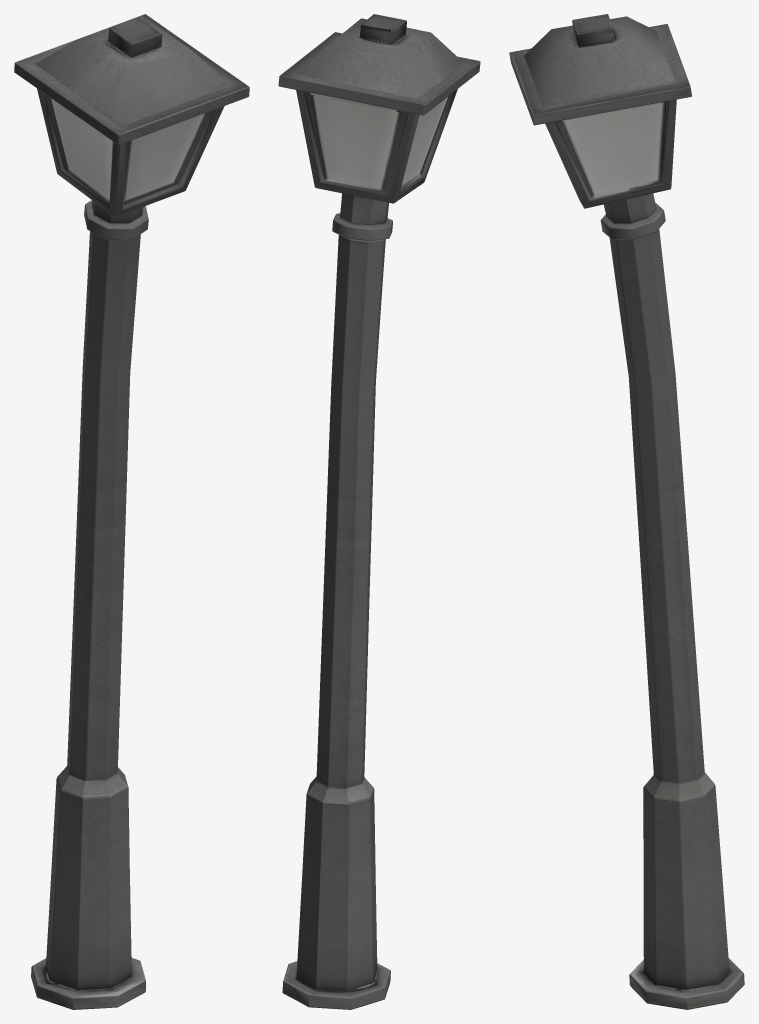
Rendered from street+lamp+3d+model.fbx.
The picture shows the model from 3 angles, left to right: view 1: azimuth 30°, elevation 25°; view 2: azimuth 150°, elevation 25°; view 3: azimuth 270°, elevation 25°; orthographic projection. The views are drawn at different scales.
Visible parts, largest first — view 1: bd8095d4_9fc1_47cc_8823_e5d06f0845d5; view 2: bd8095d4_9fc1_47cc_8823_e5d06f0845d5; view 3: bd8095d4_9fc1_47cc_8823_e5d06f0845d5.
Part boxes in pixels (x1,y1,x2,y2): bd8095d4_9fc1_47cc_8823_e5d06f0845d5: (14, 14, 249, 1009); bd8095d4_9fc1_47cc_8823_e5d06f0845d5: (278, 14, 480, 1009); bd8095d4_9fc1_47cc_8823_e5d06f0845d5: (509, 14, 744, 1009).
Size of the model in its own units: 0.1743 by 0.9995 by 0.2212.
Materials: 1 (1 with a texture image).
